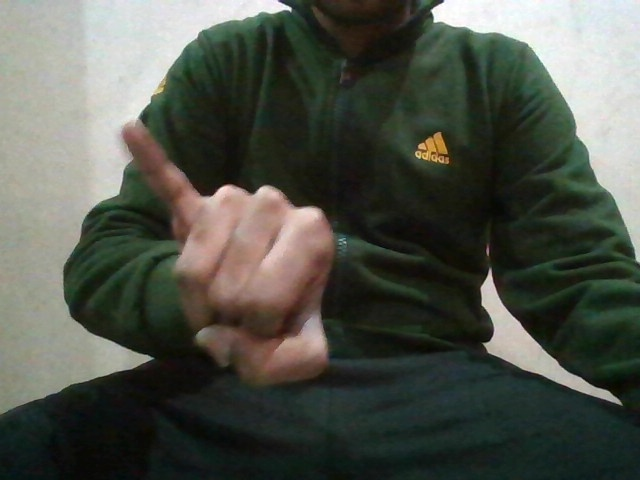I: (114, 117, 352, 386)
